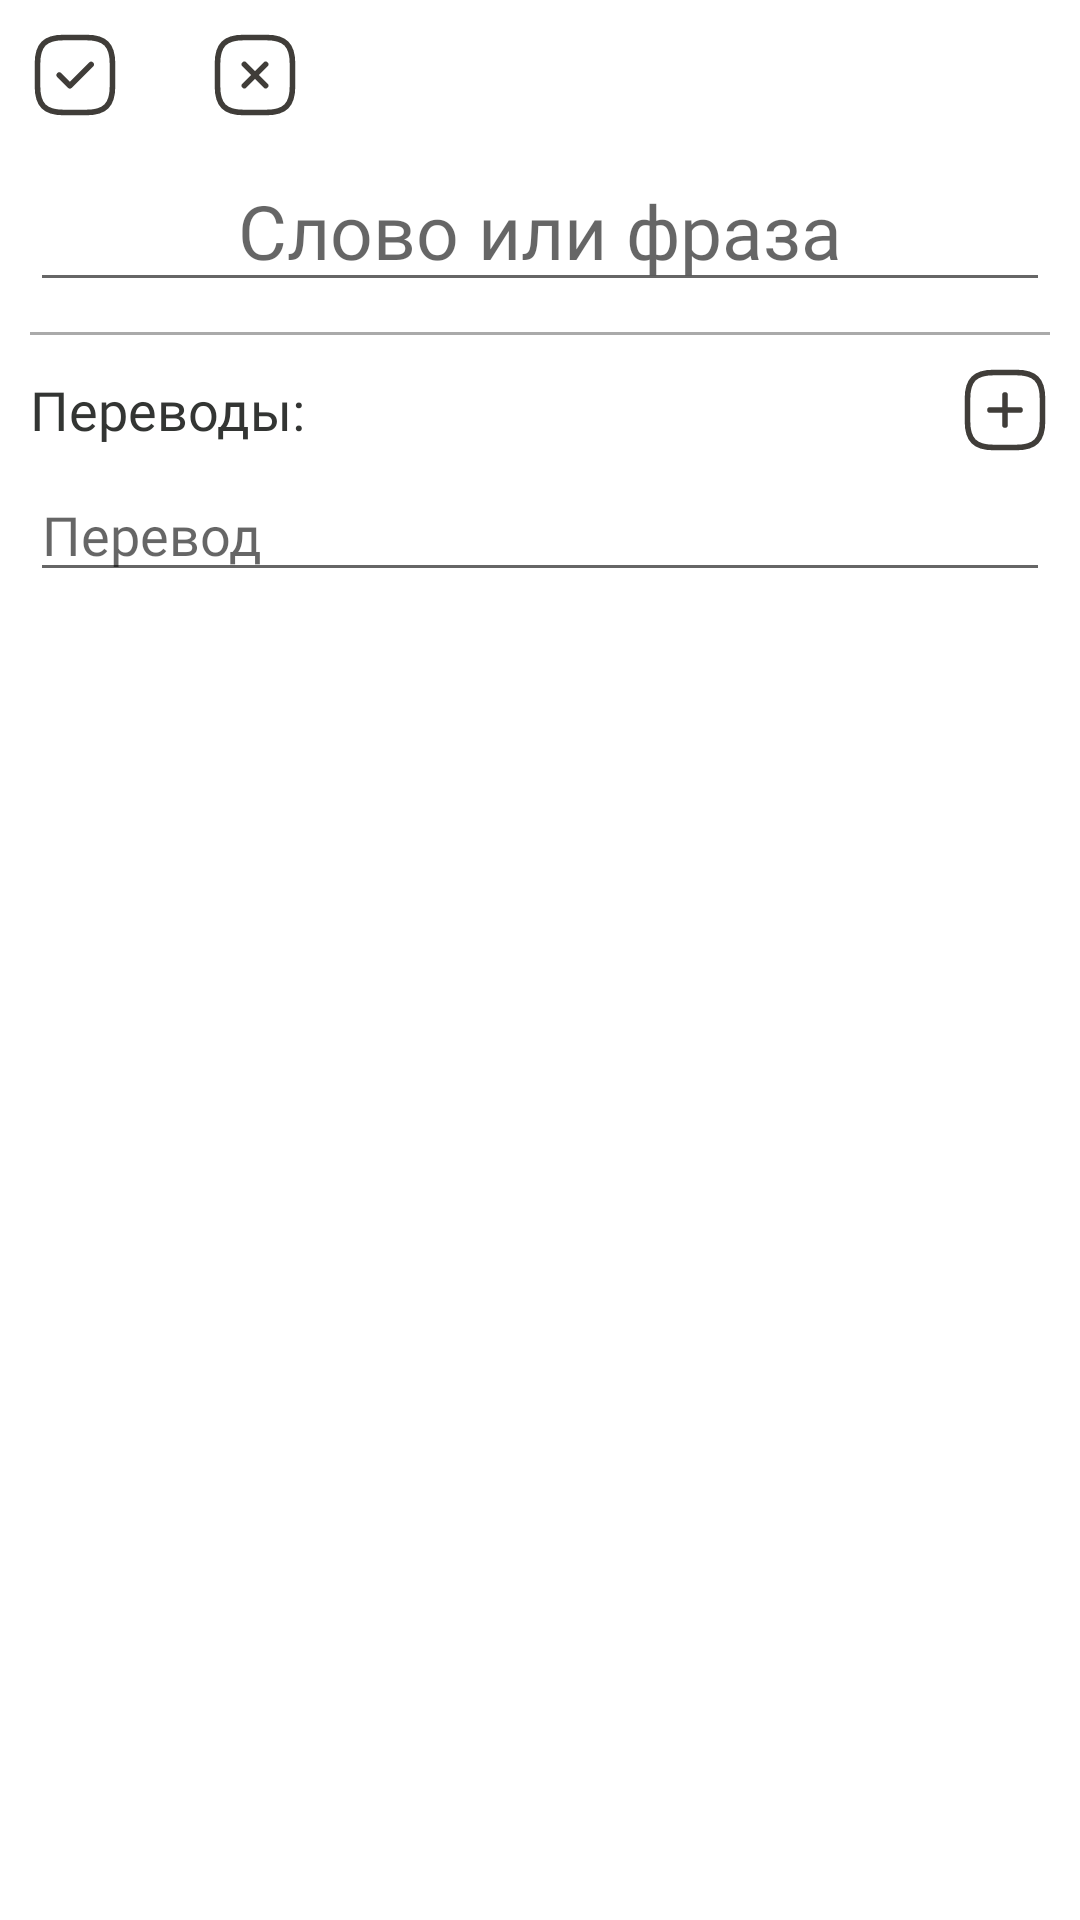

Where to tap for icons on this 1080x1920 app screen, as (x=x, y=y):
add square: (x=1005, y=410)
close square: (x=255, y=75)
save changes: (x=75, y=75)
